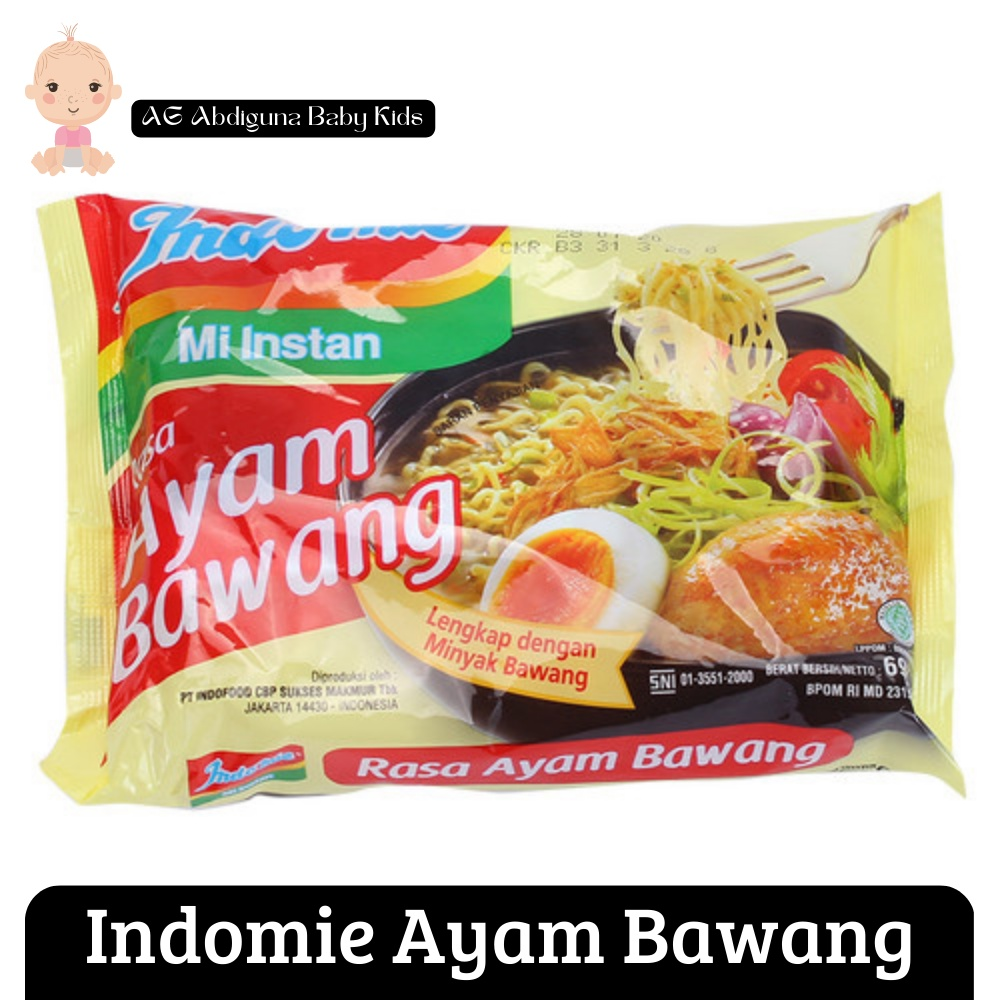Indomie Ayam Bawang (69g): (24, 181, 977, 796)
